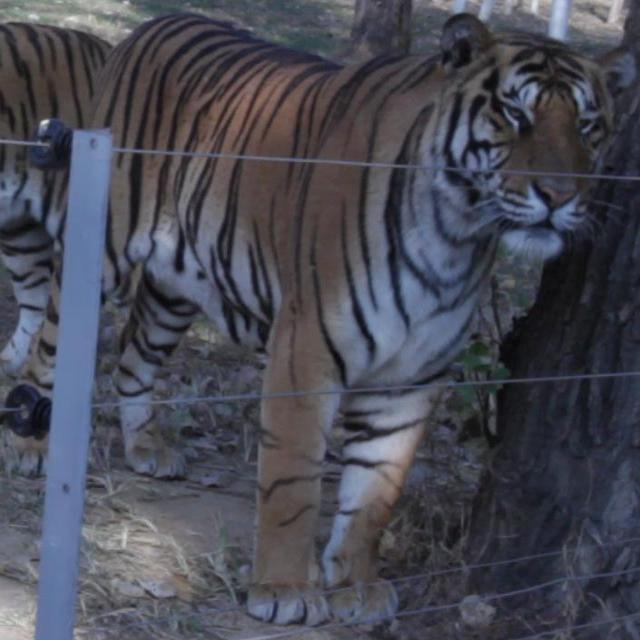tiger: (1, 4, 636, 628), (0, 18, 116, 478)
